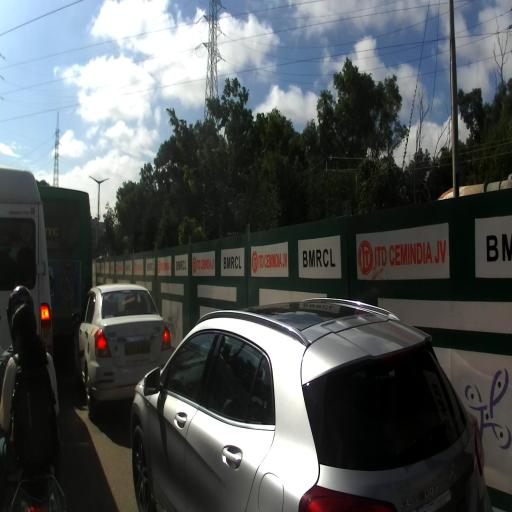street_light_0: (89, 175, 100, 186), (98, 178, 109, 186)
